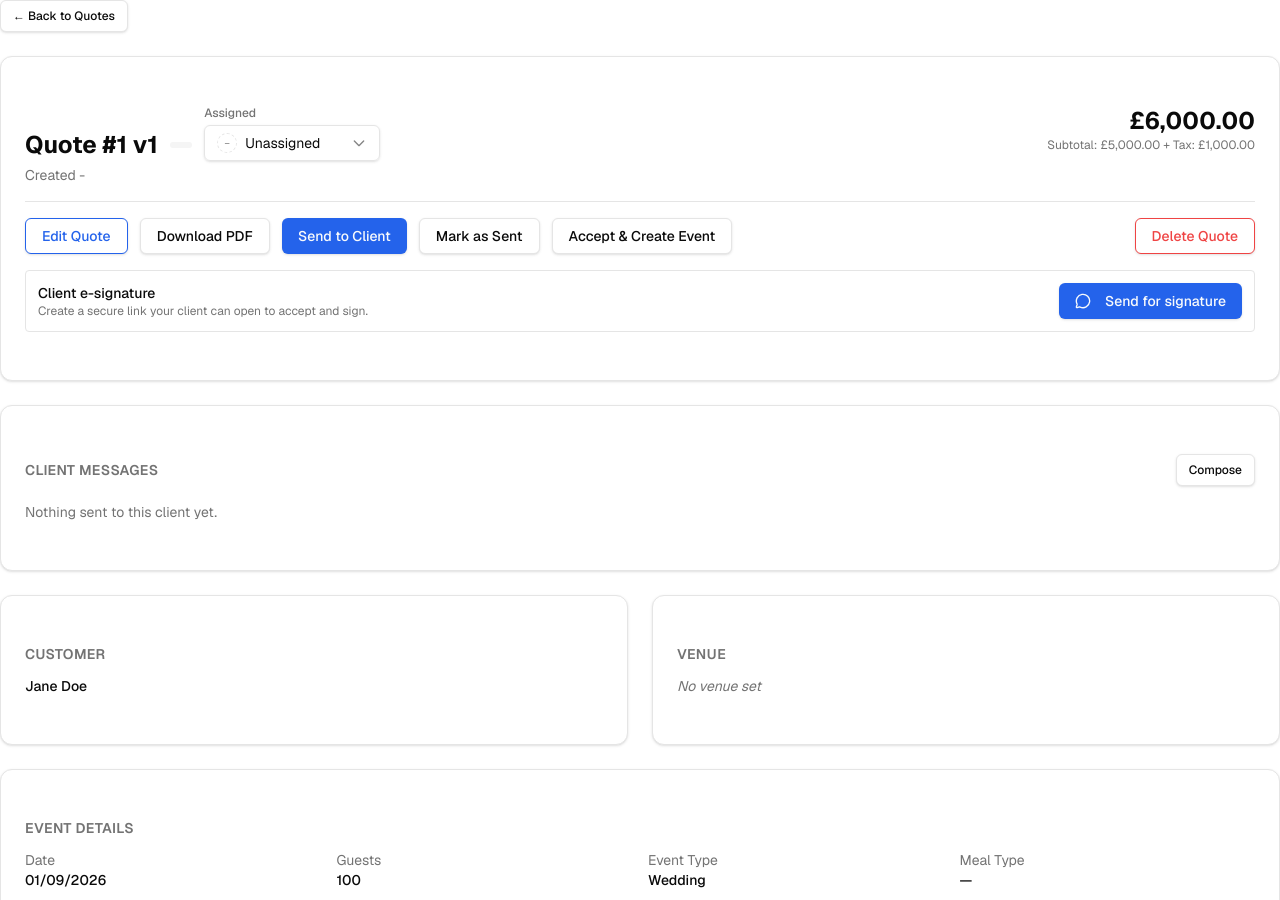
Scenario: Quote — the one Menu card at proposal › shows no choice affordance when the service style is not plated
Click the button "Edit Quote".
click(76, 236)  # box x1=25 y1=218 x2=128 y2=254
(page scrolled)
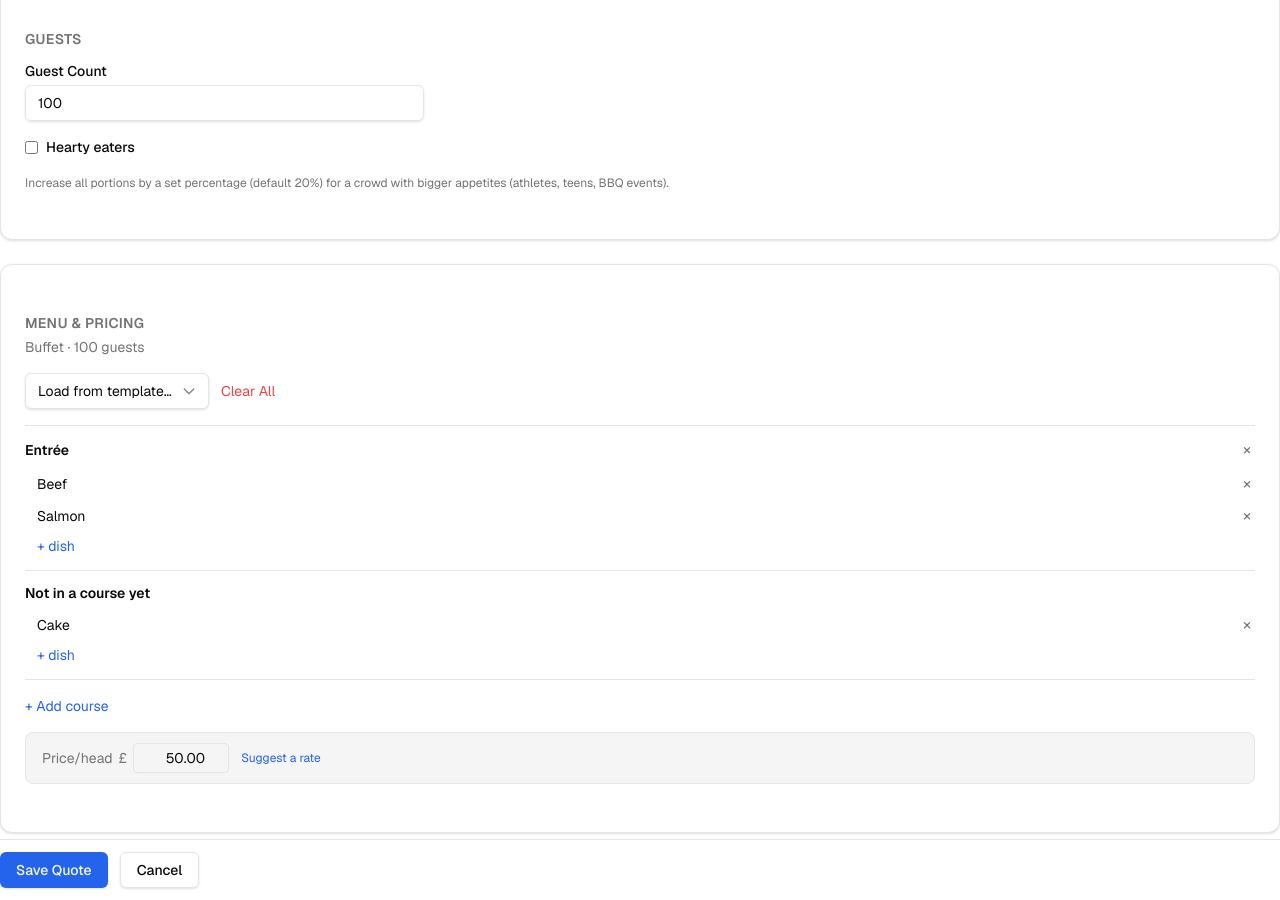
Expected: the field named "Course 1 name" is shown, x1=23 y1=440 x2=199 y2=460
